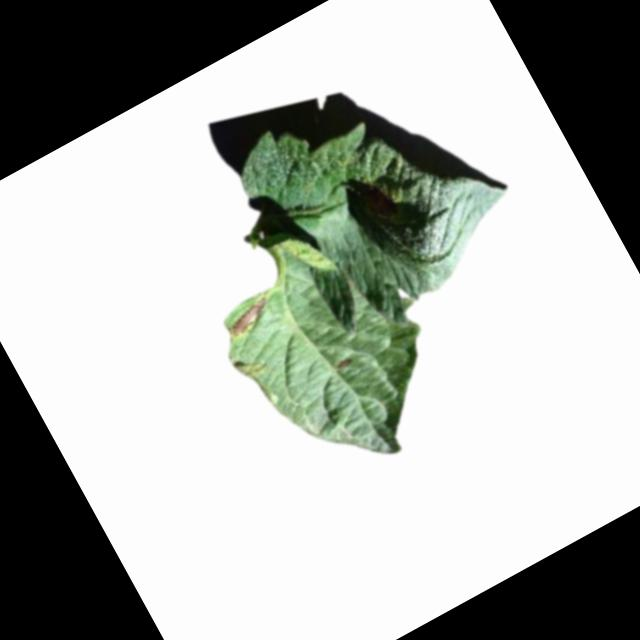Early_blight: (222, 299, 279, 345), (333, 354, 355, 373)
